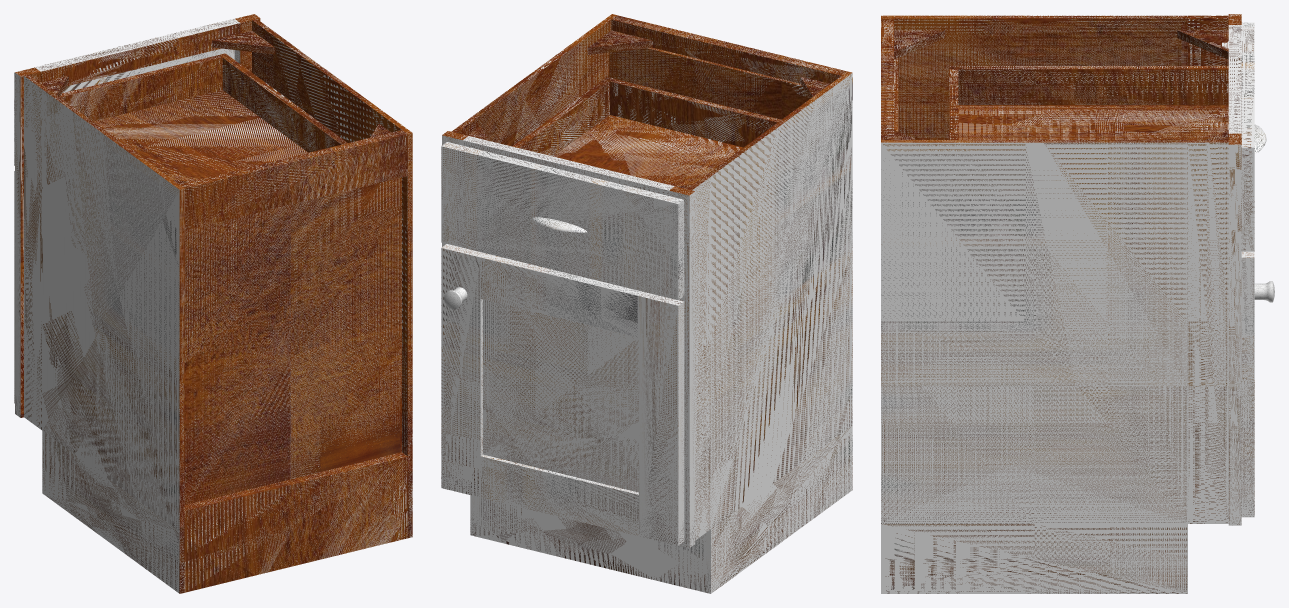
3 renders of one model, left to right at view 1: azimuth 30°, elevation 25°; view 2: azimuth 150°, elevation 25°; view 3: azimuth 270°, elevation 25°, orthographic. The views are drawn at different scales.
Parts seen in each view (by area): view 1: mesh4_mesh4-geometry, mesh7_mesh7-geometry, mesh12_mesh12-geometry, mesh21_mesh21-geometry, mesh3_mesh3-geometry, mesh10_mesh10-geometry, mesh8_mesh8-geometry, mesh6_mesh6-geometry, mesh19_mesh19-geometry, mesh5_mesh5-geometry, mesh18_mesh18-geometry, mesh2_mesh2-geometry (+4 smaller); view 2: mesh7_mesh7-geometry, mesh23_mesh23-geometry, mesh26_mesh26-geometry, mesh29_mesh29-geometry, mesh25_mesh25-geometry, mesh8_mesh8-geometry, mesh13_mesh13-geometry, mesh28_mesh28-geometry, mesh21_mesh21-geometry, mesh4_mesh4-geometry, mesh10_mesh10-geometry, mesh27_mesh27-geometry (+7 smaller); view 3: mesh10_mesh10-geometry, mesh11_mesh11-geometry, mesh7_mesh7-geometry, mesh9_mesh9-geometry, mesh18_mesh18-geometry, mesh21_mesh21-geometry, mesh2_mesh2-geometry, mesh25_mesh25-geometry, mesh23_mesh23-geometry, mesh3_mesh3-geometry, mesh5_mesh5-geometry, mesh6_mesh6-geometry (+3 smaller).
Boxes of the visible parts, x1,y1,x2,y2 form: mesh4_mesh4-geometry: [184, 177, 401, 504]; mesh7_mesh7-geometry: [42, 88, 184, 530]; mesh12_mesh12-geometry: [184, 452, 407, 592]; mesh21_mesh21-geometry: [93, 90, 307, 181]; mesh3_mesh3-geometry: [179, 130, 407, 230]; mesh10_mesh10-geometry: [270, 32, 412, 475]; mesh8_mesh8-geometry: [42, 431, 184, 593]; mesh6_mesh6-geometry: [24, 74, 46, 430]; mesh19_mesh19-geometry: [60, 55, 222, 121]; mesh5_mesh5-geometry: [35, 19, 240, 86]; mesh18_mesh18-geometry: [219, 53, 347, 152]; mesh2_mesh2-geometry: [15, 14, 260, 417]; mesh7_mesh7-geometry: [706, 71, 852, 528]; mesh23_mesh23-geometry: [441, 142, 684, 300]; mesh26_mesh26-geometry: [483, 299, 638, 492]; mesh29_mesh29-geometry: [639, 292, 684, 545]; mesh25_mesh25-geometry: [441, 244, 485, 497]; mesh8_mesh8-geometry: [705, 425, 852, 593]; mesh13_mesh13-geometry: [475, 496, 705, 592]; mesh28_mesh28-geometry: [480, 253, 643, 337]; mesh21_mesh21-geometry: [553, 115, 743, 186]; mesh4_mesh4-geometry: [609, 47, 809, 119]; mesh10_mesh10-geometry: [470, 14, 616, 146]; mesh27_mesh27-geometry: [480, 454, 638, 536]; mesh10_mesh10-geometry: [881, 140, 1187, 523]; mesh11_mesh11-geometry: [881, 524, 1187, 593]; mesh7_mesh7-geometry: [881, 15, 1187, 139]; mesh9_mesh9-geometry: [1188, 140, 1228, 523]; mesh18_mesh18-geometry: [949, 66, 1228, 105]; mesh21_mesh21-geometry: [958, 105, 1228, 139]; mesh2_mesh2-geometry: [1228, 14, 1241, 525]; mesh25_mesh25-geometry: [1241, 251, 1254, 517]; mesh23_mesh23-geometry: [1241, 22, 1254, 251]; mesh3_mesh3-geometry: [881, 18, 893, 139]; mesh5_mesh5-geometry: [1228, 25, 1241, 133]; mesh6_mesh6-geometry: [1188, 15, 1228, 65].
Size of the model in its own units: 0.4377 by 0.7052 by 0.5578.
